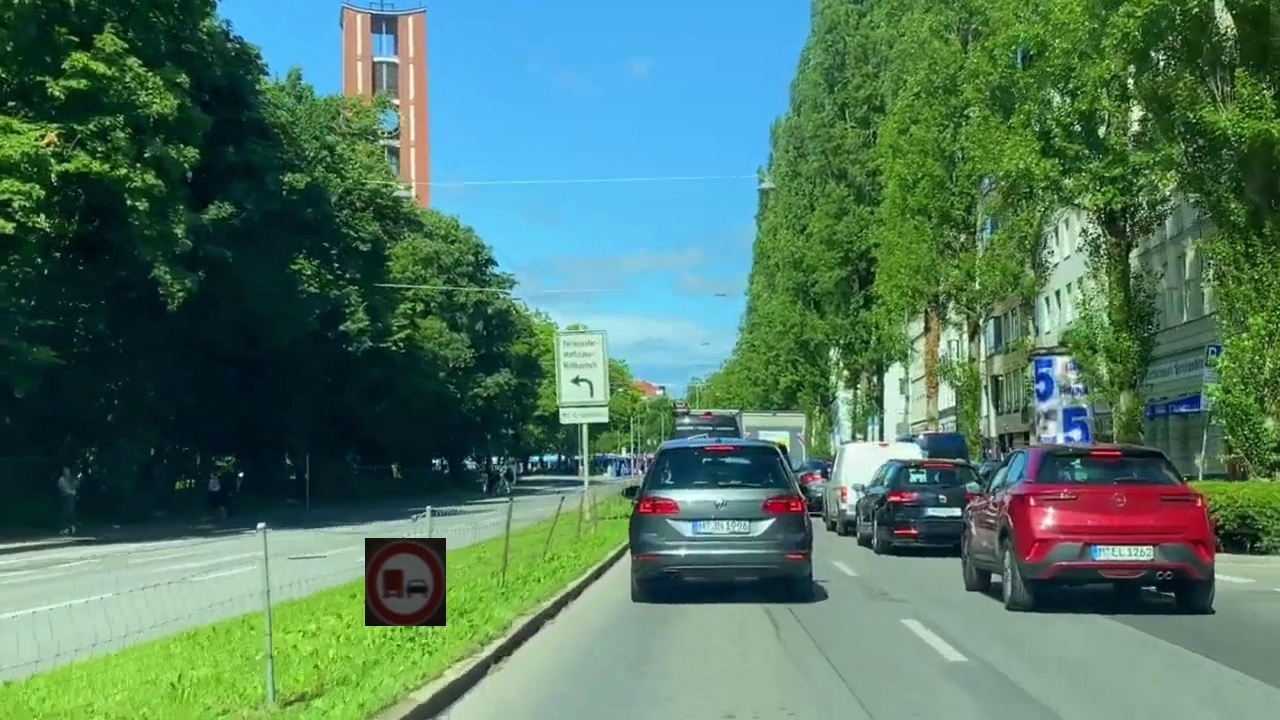No pass >3.5t: (365, 538, 446, 626)
